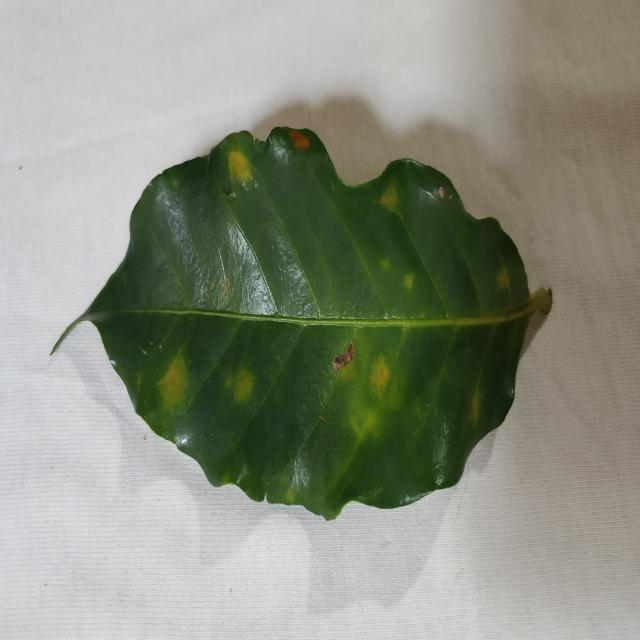Enfermedad-Roya: (53, 126, 554, 522)
